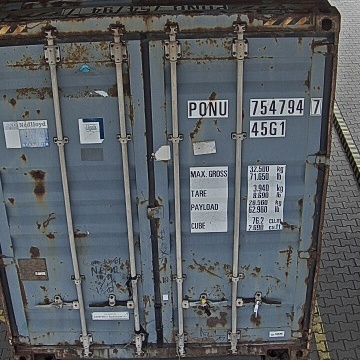serial_id: (188, 99, 321, 116)
